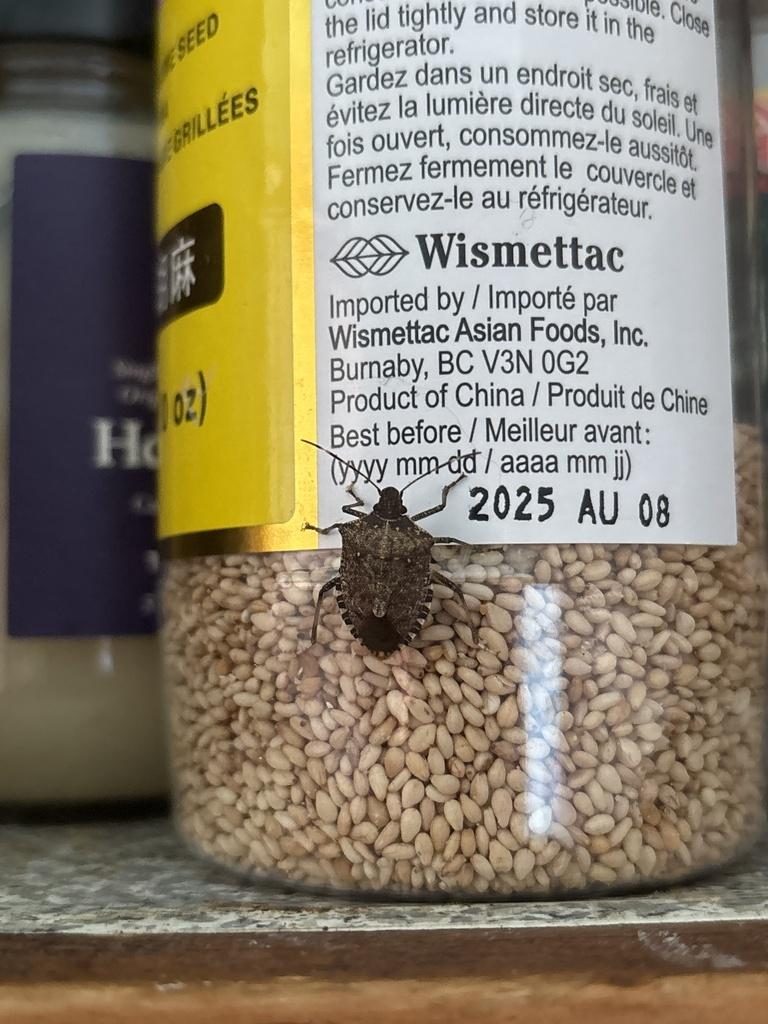stink_bugs: (261, 399, 514, 696)
